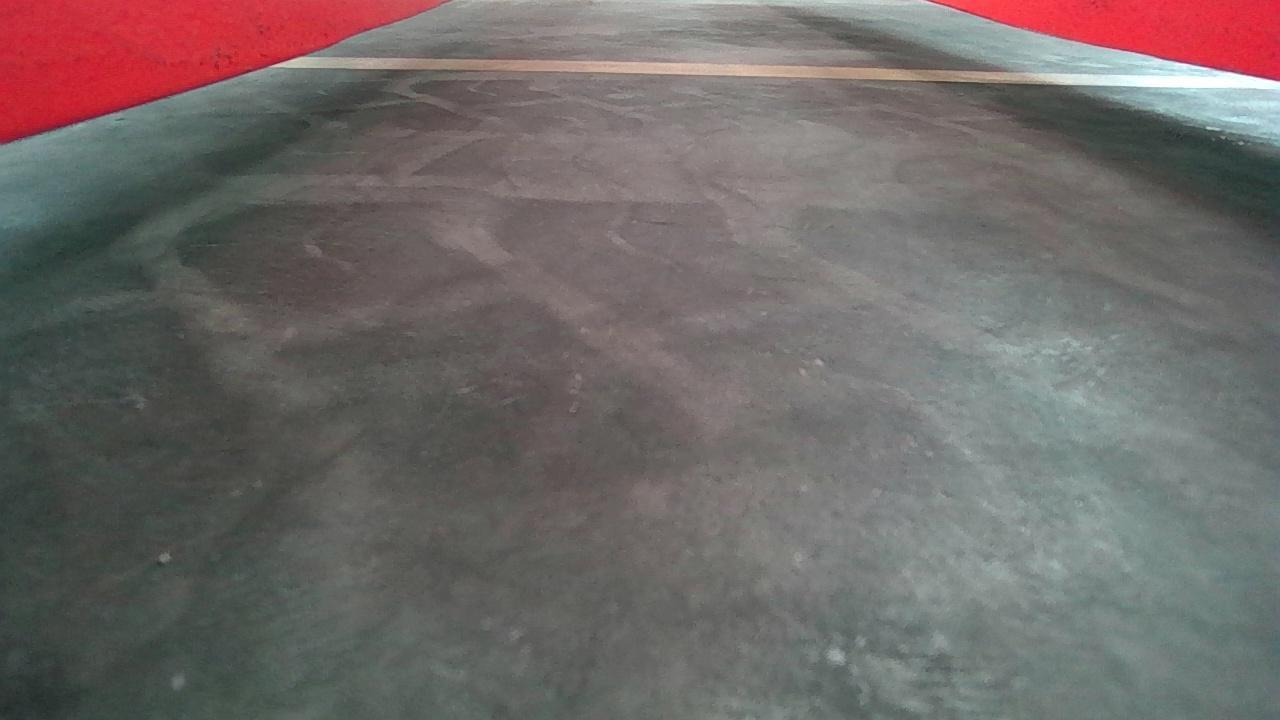yellow_line: (275, 52, 1277, 86)
